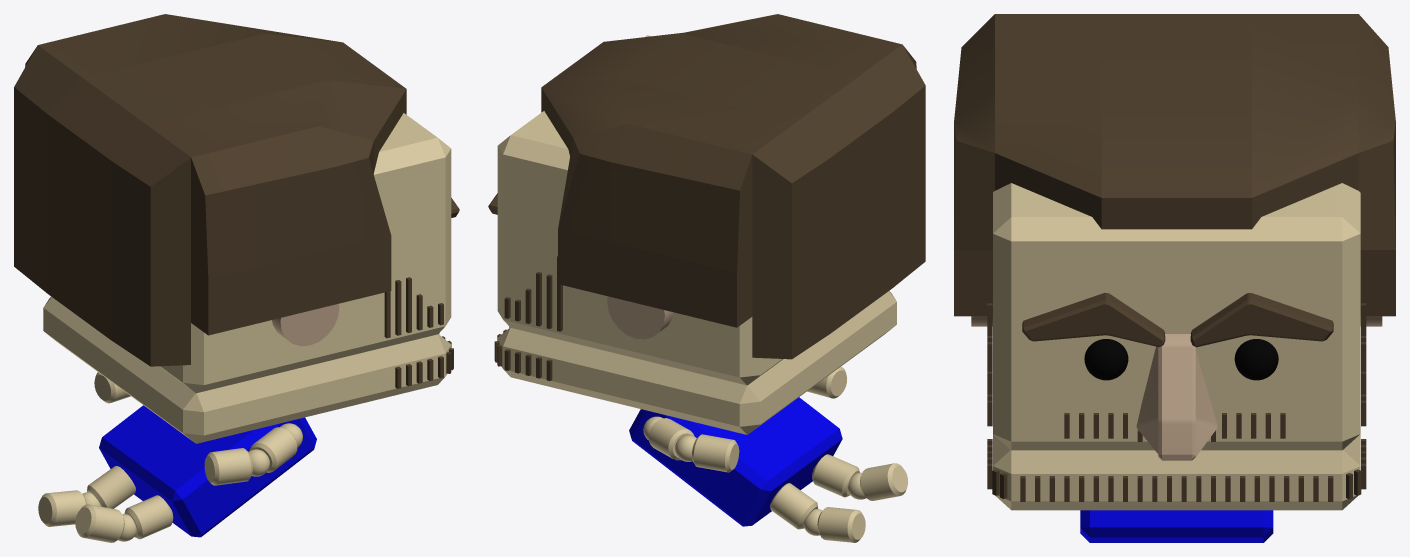
The model's file is MartinMatinSkin.fbx.
3 renders of one model, left to right at view 1: azimuth 30°, elevation 25°; view 2: azimuth 150°, elevation 25°; view 3: azimuth 270°, elevation 25°, orthographic. The views are drawn at different scales.
Parts seen in each view (by area): view 1: polySurface6, group32_pasted__group31_pasted__pasted__group30_pasted__past; view 2: polySurface6, group32_pasted__group31_pasted__pasted__group30_pasted__past; view 3: polySurface6, group32_pasted__group31_pasted__pasted__group30_pasted__past.
Part boxes in pixels (x1=…): polySurface6: x1=14, y1=14, x2=459, y2=542; group32_pasted__group31_pasted__pasted__group30_pasted__past: x1=43, y1=296, x2=453, y2=443; polySurface6: x1=488, y1=14, x2=925, y2=542; group32_pasted__group31_pasted__pasted__group30_pasted__past: x1=494, y1=290, x2=896, y2=434; polySurface6: x1=954, y1=14, x2=1395, y2=542; group32_pasted__group31_pasted__pasted__group30_pasted__past: x1=987, y1=434, x2=1366, y2=510.
Size of the model in its own units: 140 by 154 by 121.
